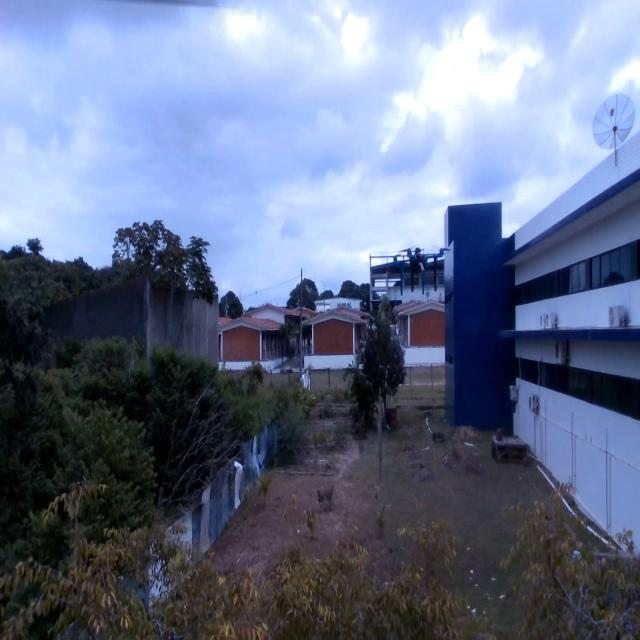-uav-: (385, 238, 455, 306)
